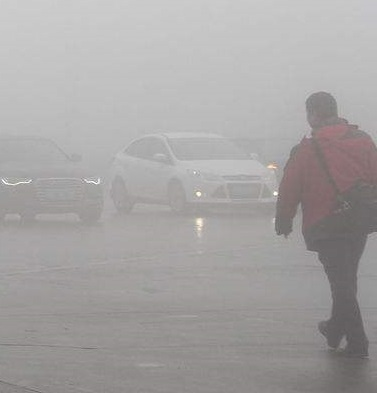person: (272, 86, 377, 363)
